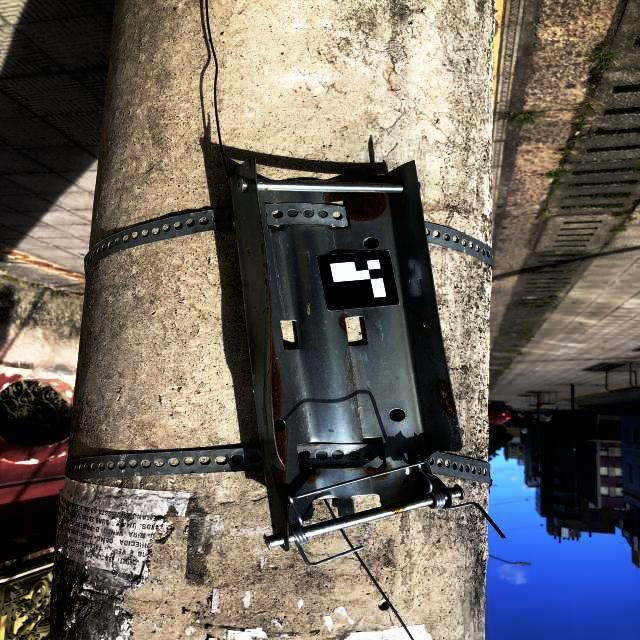Corrosion: (269, 285, 283, 426), (271, 428, 290, 524), (324, 192, 386, 221), (437, 380, 458, 418), (298, 456, 321, 485), (281, 321, 298, 347), (353, 463, 389, 475), (338, 314, 348, 334), (335, 178, 366, 182), (373, 473, 389, 480), (309, 456, 317, 461)
